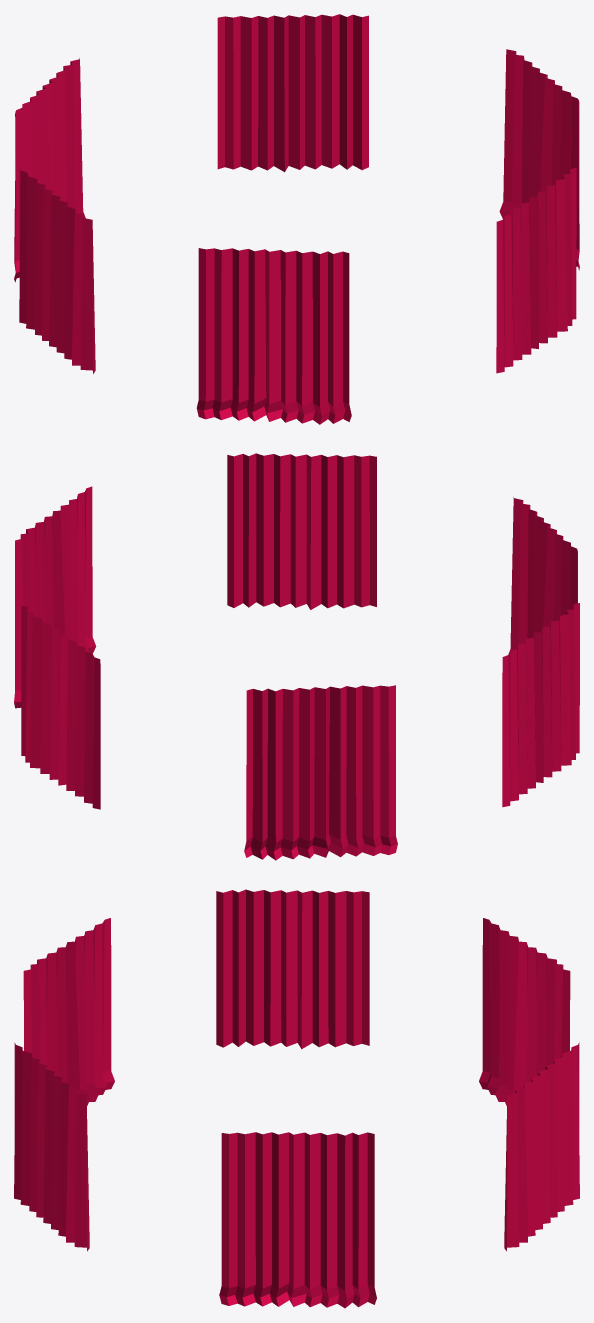
Rendered from RedCloth.fbx.
3 views of the same model, one above another, from view 1: azimuth 30°, elevation 25°; view 2: azimuth 150°, elevation 25°; view 3: azimuth 270°, elevation 25° (orthographic). The views are drawn at different scales.
Visible parts, largest first — view 1: Plane; view 2: Plane; view 3: Plane.
Boxes of the visible parts, x1=… form: Plane: x1=14, y1=14, x2=579, y2=424; Plane: x1=14, y1=453, x2=579, y2=860; Plane: x1=14, y1=889, x2=579, y2=1308.
Size of the model in its own units: 2010 by 644 by 1929.
